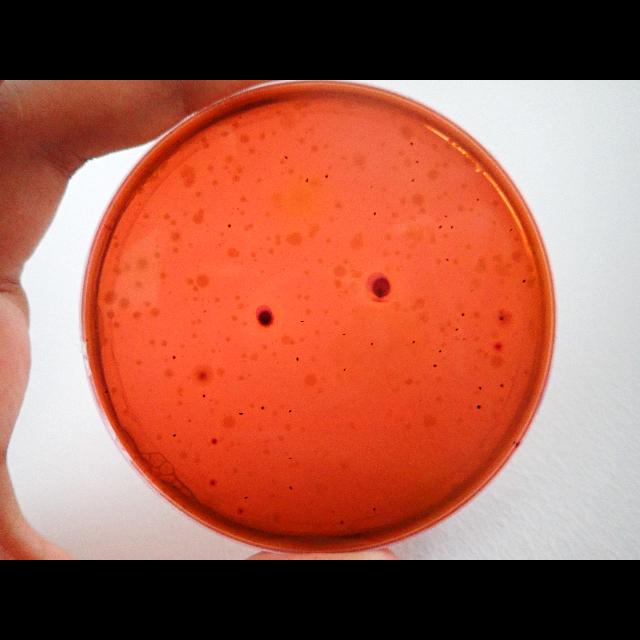colony: (256, 307, 276, 331), (302, 174, 312, 186), (370, 207, 378, 220), (497, 312, 505, 324), (323, 171, 331, 181), (520, 276, 528, 286), (286, 482, 294, 492), (170, 352, 178, 362), (408, 140, 417, 148), (410, 338, 418, 347), (210, 478, 217, 488), (282, 153, 290, 161), (413, 158, 421, 166), (437, 222, 443, 232), (338, 517, 344, 527), (409, 177, 416, 185), (444, 256, 451, 264), (238, 506, 245, 514), (432, 362, 438, 371), (474, 196, 480, 204), (508, 226, 514, 234), (460, 310, 466, 318), (453, 325, 459, 333), (499, 381, 505, 389), (286, 455, 294, 461), (242, 494, 250, 500), (201, 392, 207, 400), (237, 410, 245, 416), (259, 404, 265, 412), (287, 406, 293, 414), (104, 388, 110, 396), (226, 222, 232, 230), (450, 222, 454, 232), (476, 402, 480, 412), (372, 504, 376, 514), (478, 383, 482, 392), (211, 438, 217, 444), (172, 432, 178, 438), (341, 366, 347, 372), (444, 212, 448, 220), (340, 332, 348, 336), (370, 339, 374, 346), (438, 348, 442, 354), (295, 356, 301, 360), (300, 318, 304, 324)
